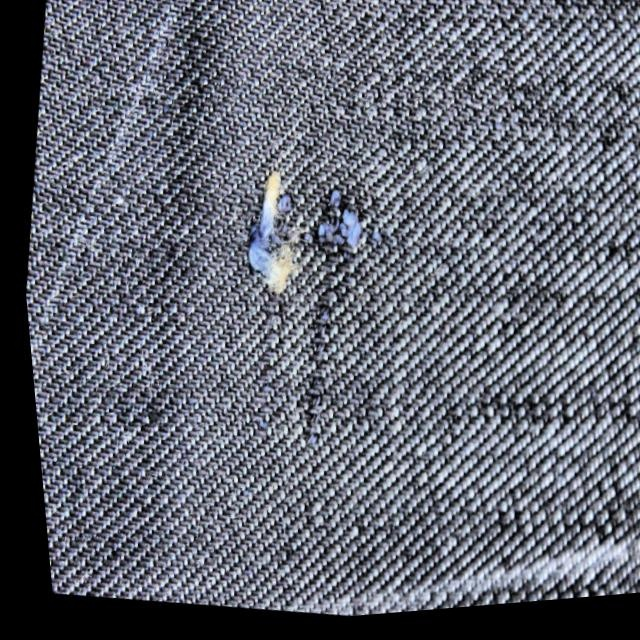Hole: (191, 124, 334, 339), (265, 320, 361, 470)
